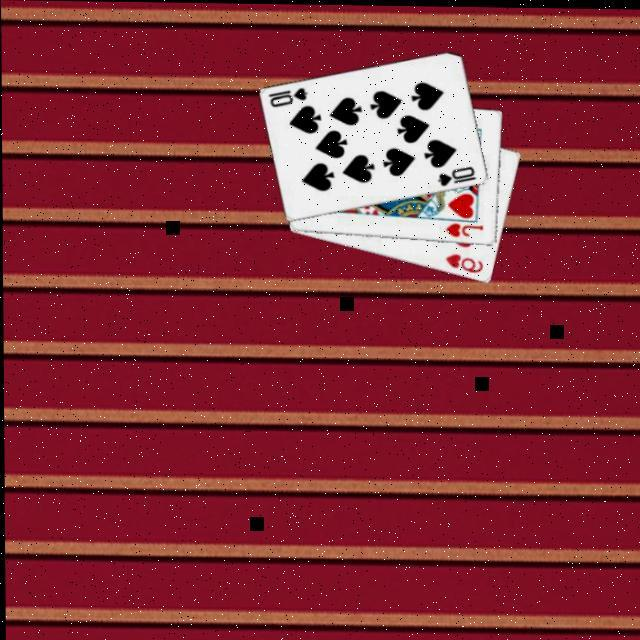10S: (263, 83, 308, 110), (432, 161, 476, 188)
6H: (440, 249, 483, 273)
JH: (441, 218, 483, 237)
